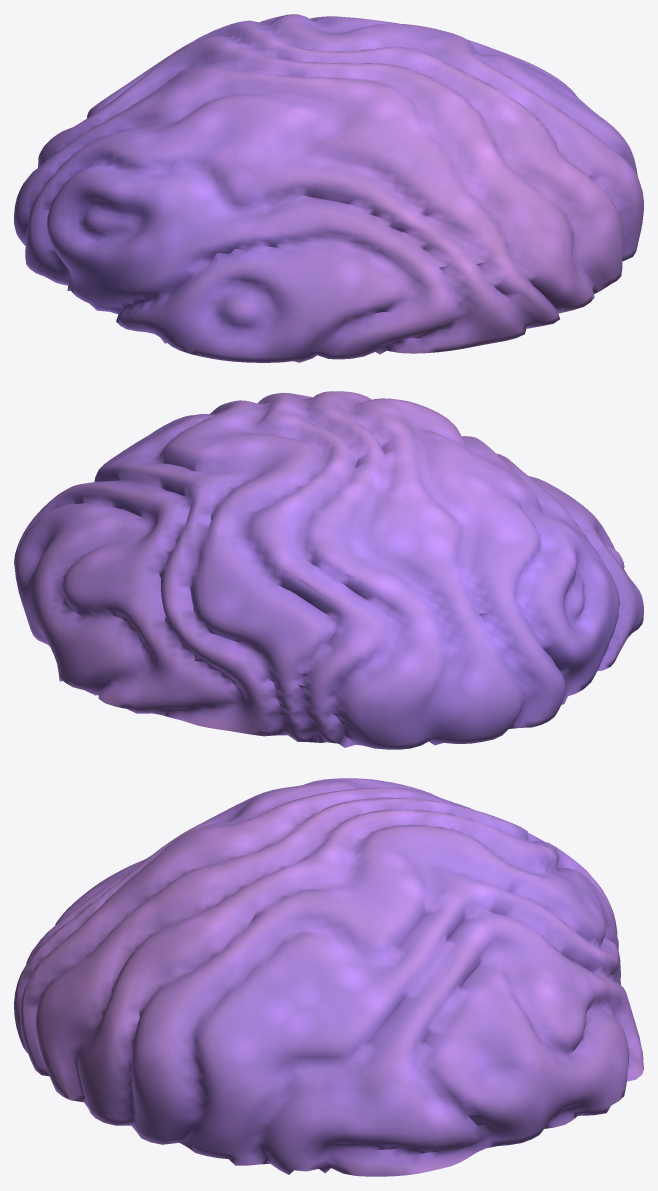
File: WM_CoralBrain_B.fbx
3 renders of one model, top to bottom at view 1: azimuth 30°, elevation 25°; view 2: azimuth 150°, elevation 25°; view 3: azimuth 270°, elevation 25°, orthographic. The views are drawn at different scales.
Parts seen in each view (by area): view 1: WM_CoralBrain_B_LOD0; view 2: WM_CoralBrain_B_LOD0; view 3: WM_CoralBrain_B_LOD0.
Part boxes in pixels (bbox=[...]): WM_CoralBrain_B_LOD0: bbox=[14, 14, 643, 362]; WM_CoralBrain_B_LOD0: bbox=[14, 391, 643, 749]; WM_CoralBrain_B_LOD0: bbox=[14, 778, 643, 1176].
Size of what is drawn, in the model's own units: 1.22 by 0.414 by 1.12.
